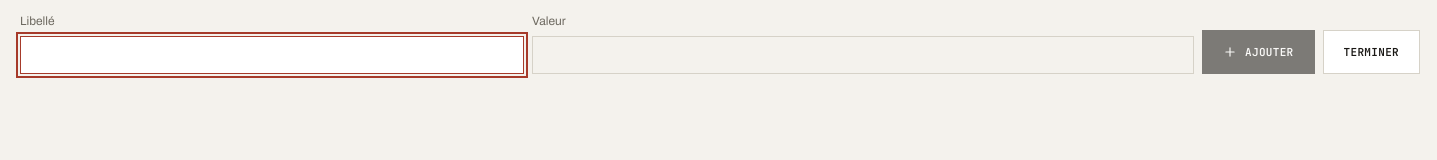
Scenario: formulaire d’ajout d’une spécification › signale un doublon à la casse et aux espaces près, relié au champ, et bloque l’ajout
Type " couronne " into the field labelled "Libellé" at (272, 55), box [20,36,524,74]
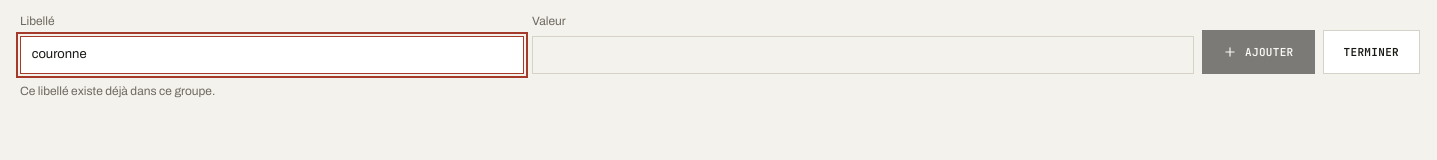
Expected: the button "Ajouter" is disabled, [1202,30,1314,74]
Now the message reads "Ce libellé existe déjà dans ce groupe.", box [20,84,215,98]
Press Enter
Replace the text in the field labelled "Libellé" with "Couronne vissée" at (272, 55), box [20,36,524,74]
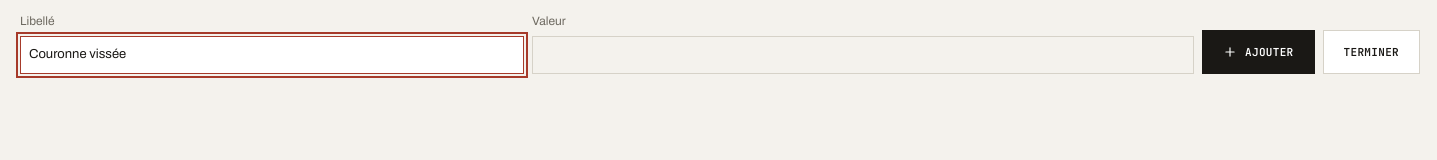
Expected: the message "Ce libellé existe déjà dans ce groupe." is not shown
Now the button "Ajouter" is enabled, box [1202,30,1314,74]
